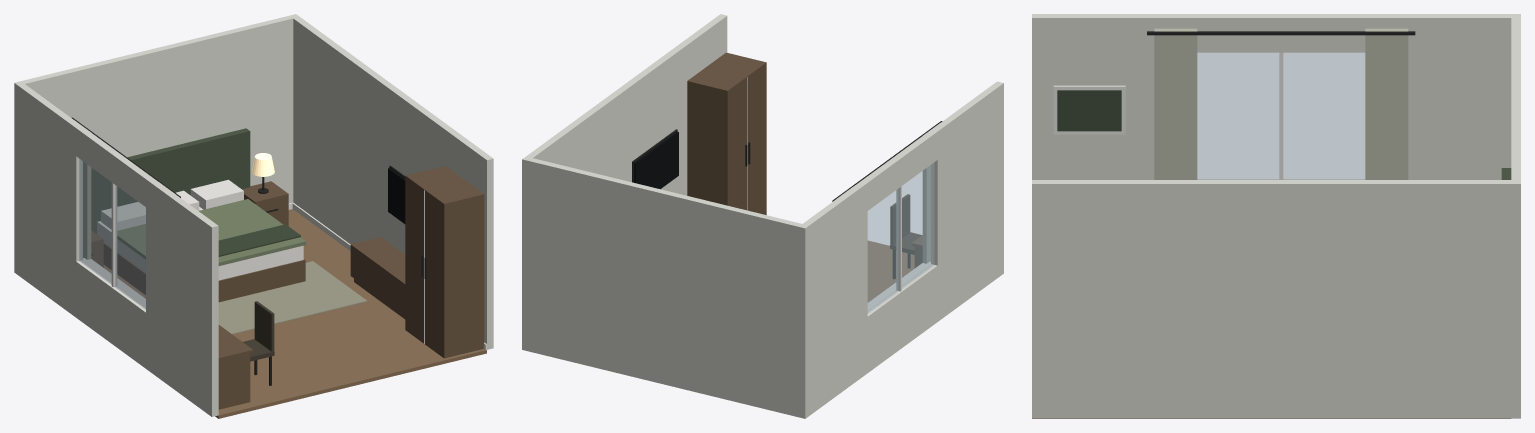
File: room-12.glb
3 views of the same model, side by side, from view 1: azimuth 30°, elevation 25°; view 2: azimuth 150°, elevation 25°; view 3: azimuth 270°, elevation 25° (orthographic). The views are drawn at different scales.
Visible parts, largest first — view 1: wall, wood, floor, glass, headboard, rug, linen, blanket, window_frame, runner, chair, curtain (+4 smaller); view 2: wall, wood, glass, screen, floor, window_frame, chair, curtain, metal; view 3: wall, glass, curtain, runner, window_frame, metal, floor.
Part boxes in pixels (bbox=[...]): wall: bbox=[14, 14, 493, 416]; wood: bbox=[91, 166, 484, 409]; floor: bbox=[103, 209, 486, 418]; glass: bbox=[79, 159, 145, 309]; headboard: bbox=[91, 128, 250, 233]; rug: bbox=[218, 261, 367, 334]; linen: bbox=[97, 179, 303, 280]; blanket: bbox=[117, 199, 306, 265]; window_frame: bbox=[77, 182, 145, 311]; runner: bbox=[218, 224, 300, 256]; chair: bbox=[243, 301, 274, 361]; curtain: bbox=[77, 122, 175, 259]; wall: bbox=[522, 14, 1003, 418]; wood: bbox=[687, 52, 922, 267]; glass: bbox=[867, 162, 934, 313]; screen: bbox=[634, 131, 678, 189]; floor: bbox=[867, 240, 914, 302]; window_frame: bbox=[867, 186, 930, 315]; chair: bbox=[890, 194, 921, 254]; curtain: bbox=[837, 123, 939, 263]; metal: bbox=[632, 121, 942, 279]; wall: bbox=[1032, 14, 1520, 418]; glass: bbox=[1197, 52, 1365, 179]; curtain: bbox=[1154, 28, 1408, 179]; runner: bbox=[1057, 90, 1121, 131]; window_frame: bbox=[1053, 52, 1283, 179]; metal: bbox=[1147, 31, 1415, 35]; floor: bbox=[1032, 418, 1510, 418].
Size of the model in its own units: 4.2 by 2.75 by 5.1.
